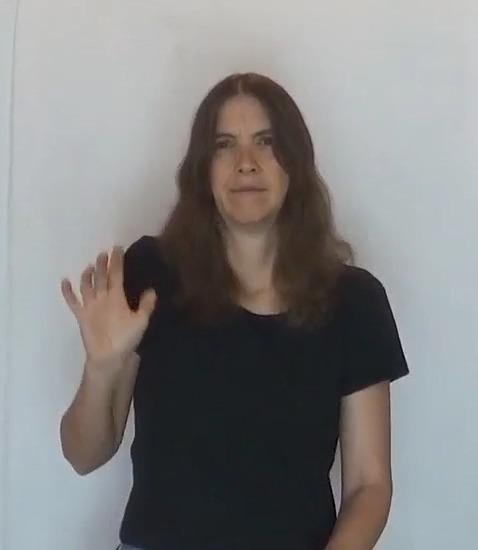Dolor: (37, 60, 434, 503)
